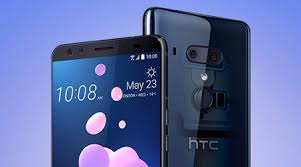htc: (141, 5, 256, 167)
